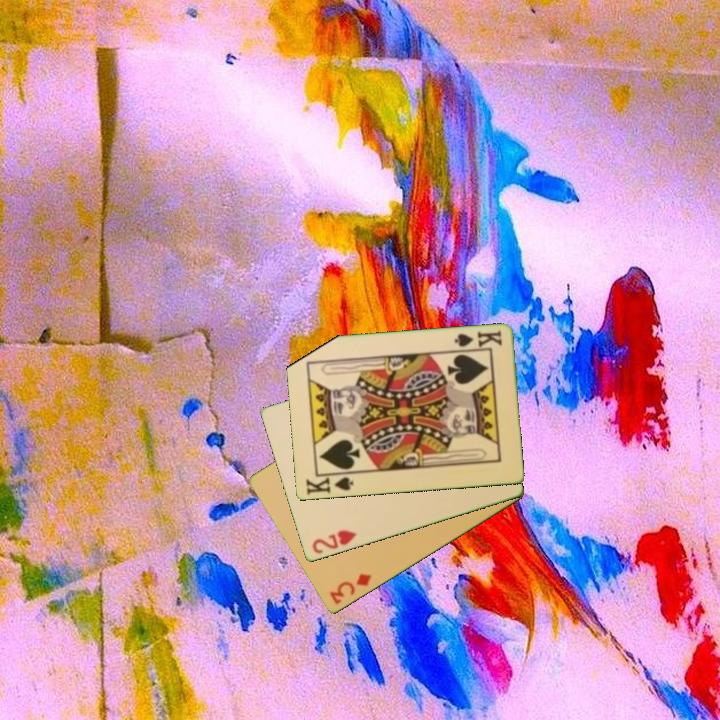2h: (308, 527, 359, 557)
3d: (326, 570, 374, 607)
Ks: (302, 470, 356, 498), (450, 328, 504, 350)
